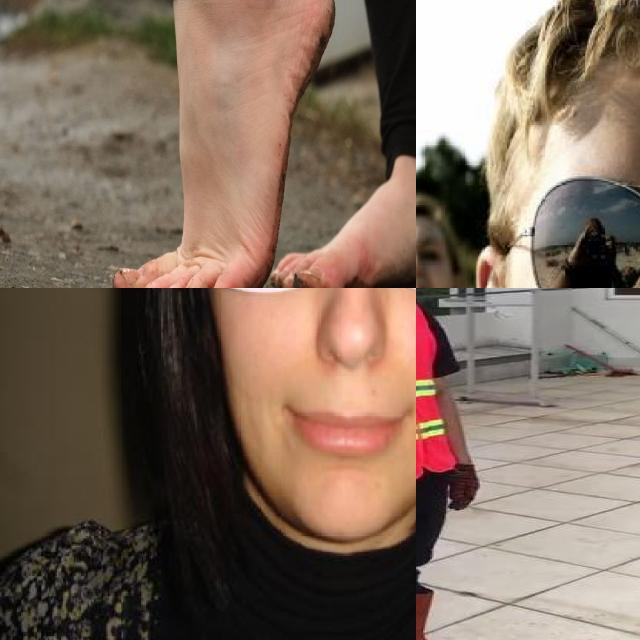Barefoots: (112, 0, 335, 288), (269, 181, 416, 288)
No_Ear-Protection: (463, 243, 529, 288)
boots: (416, 586, 479, 640)
face_nomask: (236, 288, 416, 463), (514, 175, 640, 288), (416, 236, 448, 288)
glasses: (501, 177, 640, 288)
hand_glove: (448, 463, 478, 510)
head_nohelmet: (486, 0, 640, 173), (416, 191, 441, 242)
person: (416, 288, 515, 640)
